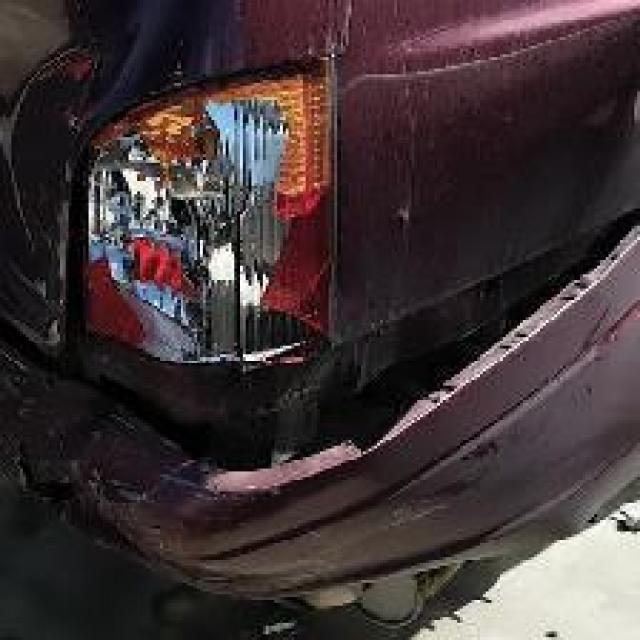damaged: (48, 91, 638, 620)
